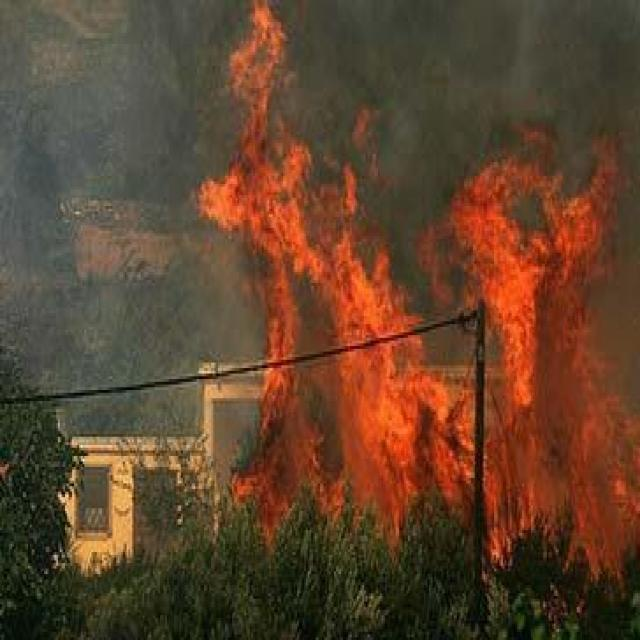fire: (198, 13, 464, 516), (460, 135, 630, 547)
